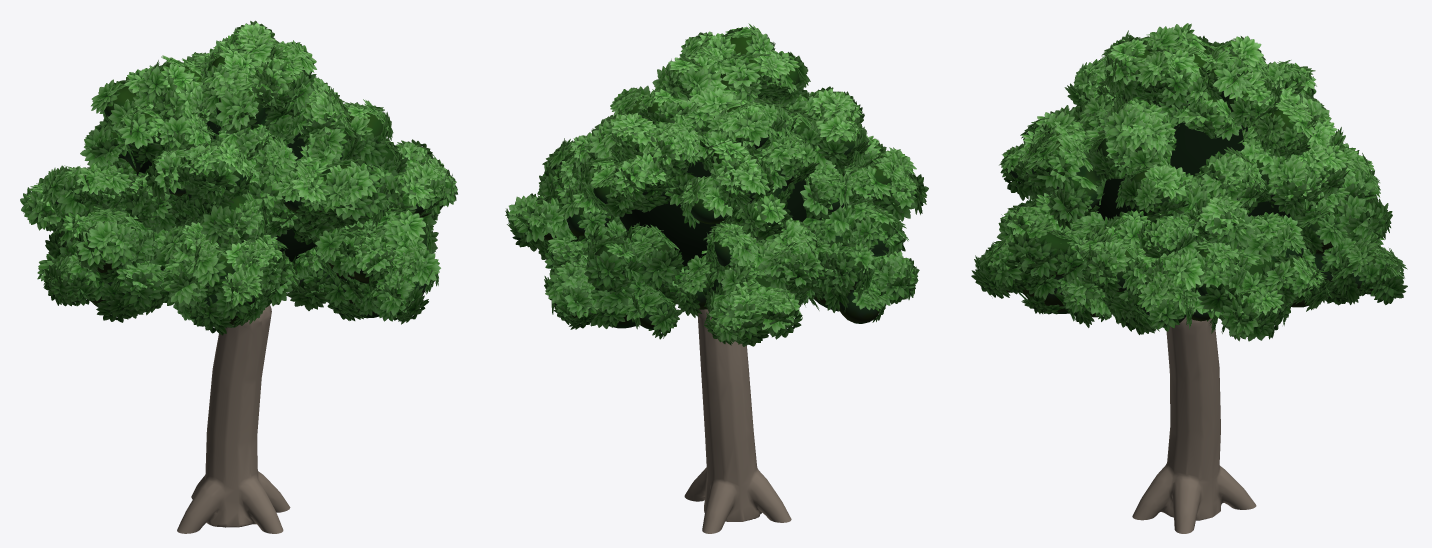
Rendered from tree.glb.
The picture shows the model from 3 angles, left to right: view 1: azimuth 30°, elevation 25°; view 2: azimuth 150°, elevation 25°; view 3: azimuth 270°, elevation 25°; orthographic projection. The views are drawn at different scales.
Parts seen in each view (by area): view 1: tree_cards, tree_wood, tree_canopy; view 2: tree_cards, tree_wood, tree_canopy; view 3: tree_cards, tree_wood, tree_canopy.
Boxes of the visible parts, x1,y1,x2,y2 form: tree_cards: (20,20,457,335); tree_wood: (177,305,290,533); tree_canopy: (36,38,442,324); tree_cards: (505,23,928,346); tree_wood: (684,309,791,533); tree_canopy: (529,35,915,329); tree_cards: (971,23,1407,341); tree_wood: (1132,317,1256,533); tree_canopy: (1001,41,1400,324).
Bounding box in the file's own units: 4.46 × 4.99 × 4.23.
Materials: 3 (1 with a texture image).
